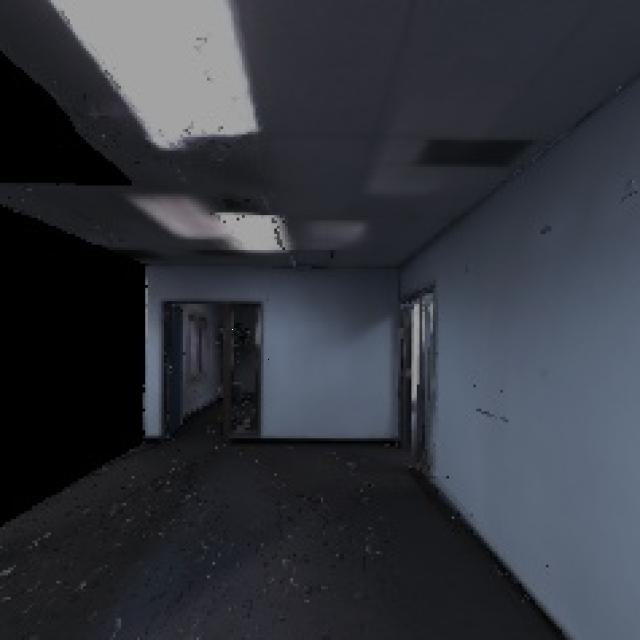door-frame: (157, 293, 273, 443), (386, 285, 459, 479)
